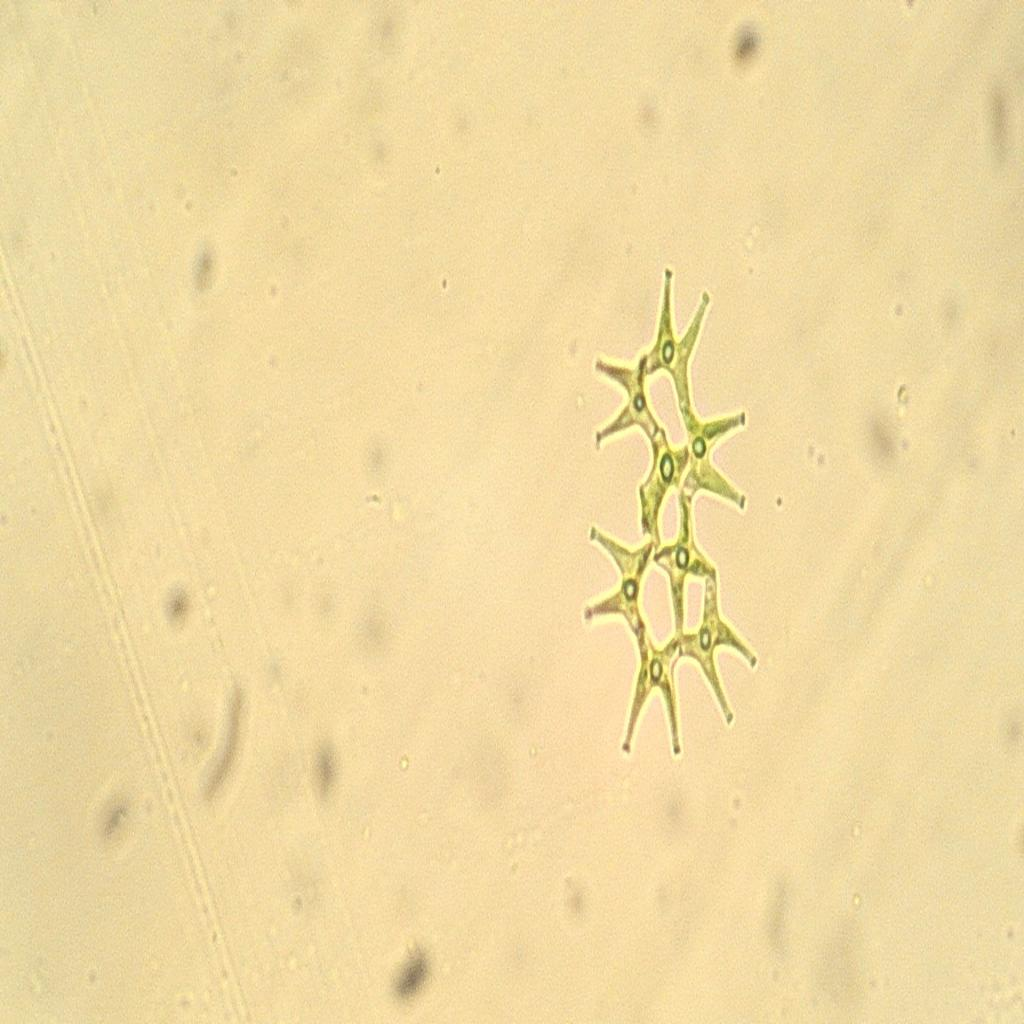Pediastrum_CFI: (569, 222, 773, 802)
